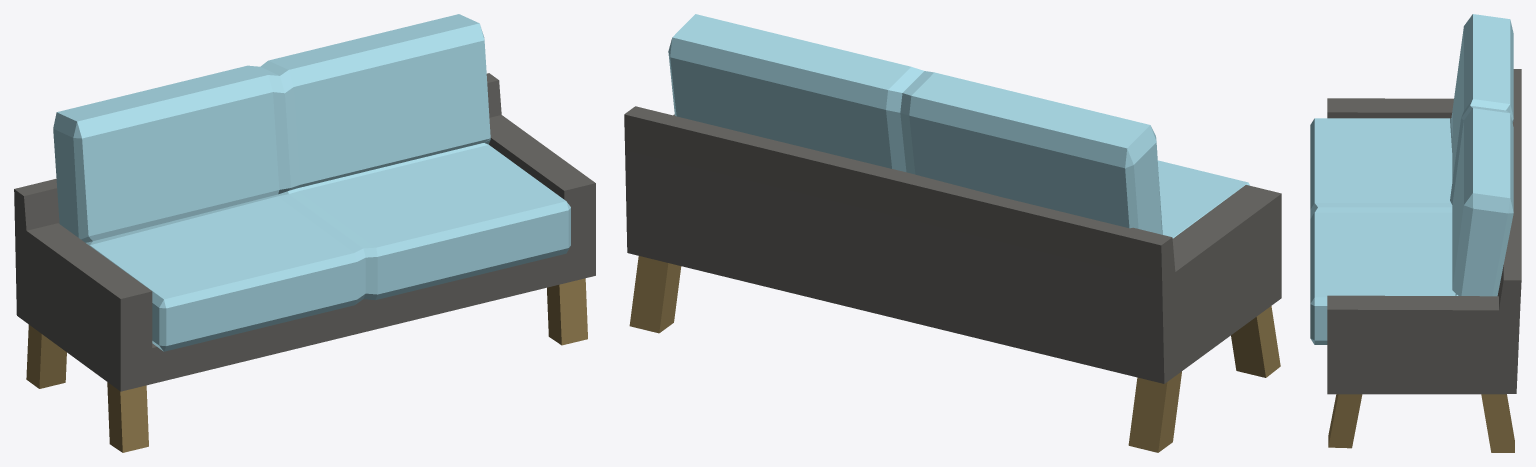
The model's file is Livingroom2_Sofa.fbx.
3 views of the same model, side by side, from view 1: azimuth 30°, elevation 25°; view 2: azimuth 150°, elevation 25°; view 3: azimuth 270°, elevation 25° (orthographic). The views are drawn at different scales.
Parts seen in each view (by area): view 1: Livingroom2_Sofa; view 2: Livingroom2_Sofa; view 3: Livingroom2_Sofa.
Boxes of the visible parts, x1,y1,x2,y2 form: Livingroom2_Sofa: (14, 14, 595, 452); Livingroom2_Sofa: (624, 14, 1281, 452); Livingroom2_Sofa: (1310, 14, 1521, 452).
Bounding box in the file's own units: 288 × 121 × 155.
